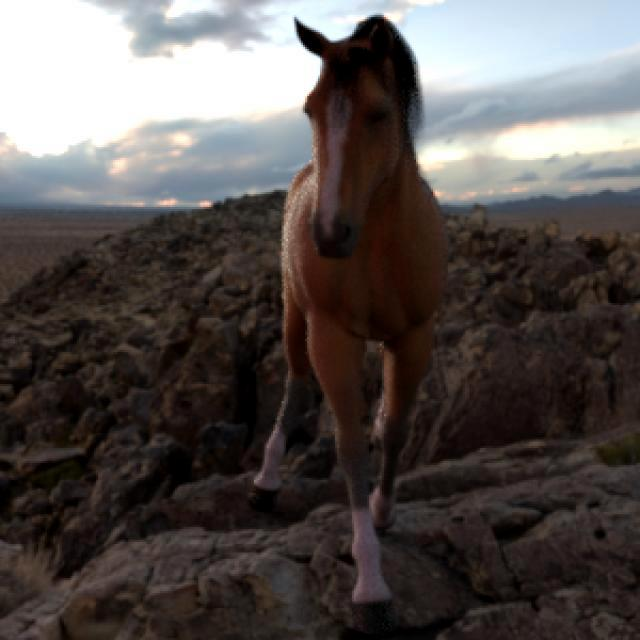horse: (251, 16, 446, 634)
